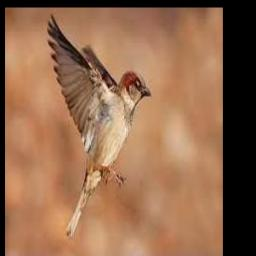Sparrow: (48, 13, 152, 237)
